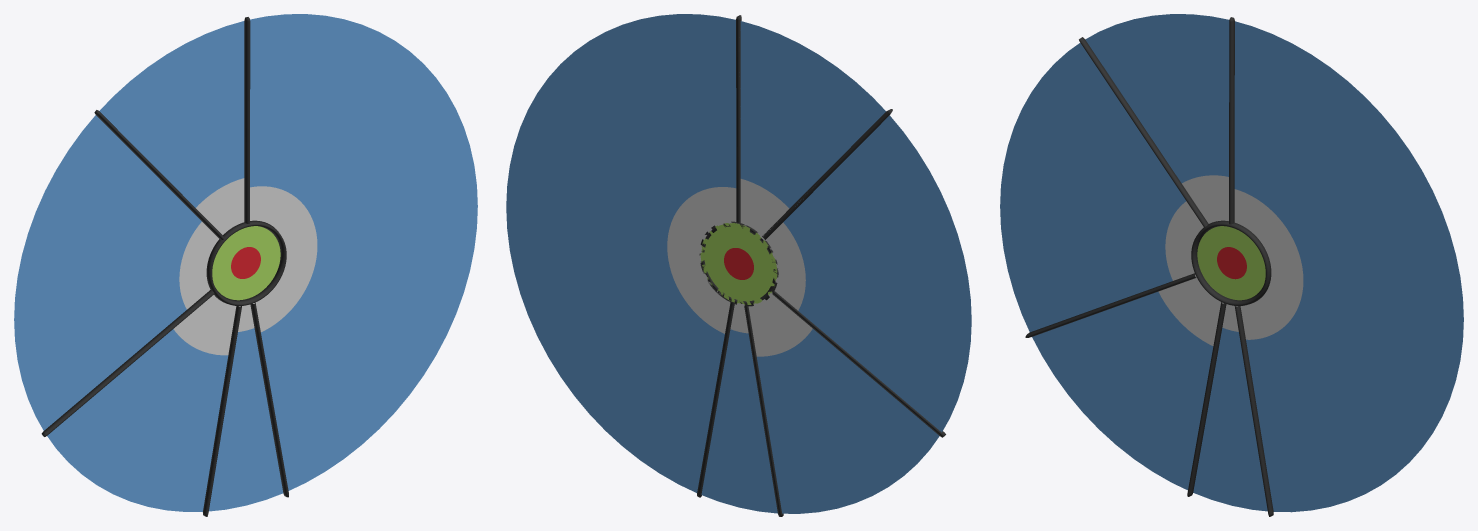
Rendered from Level_02Mesh.fbx.
3 views of the same model, side by side, from view 1: azimuth 30°, elevation 25°; view 2: azimuth 150°, elevation 25°; view 3: azimuth 330°, elevation 25° (orthographic).
Parts seen in each view (by area): view 1: L2_A, L2_D, L2_C, L2_E, L2_B, L_2_DarkLine, L2_A_2x, L2_BullsEye_OR, L2_C_2x, L2_D_2x, L2_E_2x, L2_BullsEye; view 2: L2_A, L2_D, L2_C, L2_E, L2_B, L_2_DarkLine, L2_A_2x, L2_BullsEye_OR, L2_C_2x, L2_D_2x, L2_E_2x, L2_BullsEye; view 3: L2_A, L2_D, L2_C, L2_E, L2_B, L_2_DarkLine, L2_A_2x, L2_BullsEye_OR, L2_C_2x, L2_D_2x, L2_E_2x, L2_BullsEye.
Part boxes in pixels (x1,y1,x2,y2): L2_A: [250, 14, 477, 490]; L2_D: [14, 115, 201, 430]; L2_C: [47, 329, 228, 511]; L2_E: [99, 21, 244, 207]; L2_B: [209, 328, 283, 511]; L_2_DarkLine: [41, 17, 288, 516]; L2_A_2x: [250, 186, 317, 332]; L2_BullsEye_OR: [212, 226, 280, 300]; L2_C_2x: [173, 295, 236, 355]; L2_D_2x: [179, 222, 218, 309]; L2_E_2x: [196, 178, 244, 234]; L2_BullsEye: [231, 247, 260, 278]; L2_A: [506, 14, 736, 492]; L2_D: [783, 115, 971, 432]; L2_C: [757, 329, 939, 513]; L2_E: [740, 21, 885, 208]; L2_B: [701, 329, 777, 513]; L_2_DarkLine: [697, 15, 945, 516]; L2_A_2x: [667, 187, 736, 333]; L2_BullsEye_OR: [700, 223, 777, 304]; L2_C_2x: [748, 292, 812, 356]; L2_D_2x: [763, 222, 805, 310]; L2_E_2x: [740, 179, 789, 239]; L2_BullsEye: [724, 248, 753, 279]; L2_A: [1234, 21, 1463, 512]; L2_D: [1000, 43, 1185, 332]; L2_C: [1032, 292, 1213, 490]; L2_E: [1085, 14, 1229, 183]; L2_B: [1193, 327, 1267, 511]; L_2_DarkLine: [1025, 17, 1273, 516]; L2_A_2x: [1234, 189, 1303, 339]; L2_BullsEye_OR: [1197, 226, 1265, 300]; L2_C_2x: [1158, 276, 1223, 345]; L2_D_2x: [1165, 201, 1203, 280]; L2_E_2x: [1182, 175, 1228, 223]; L2_BullsEye: [1217, 247, 1246, 279].
Bounding box in the file's own units: 2.02 × 2.03 × 0.0201.
